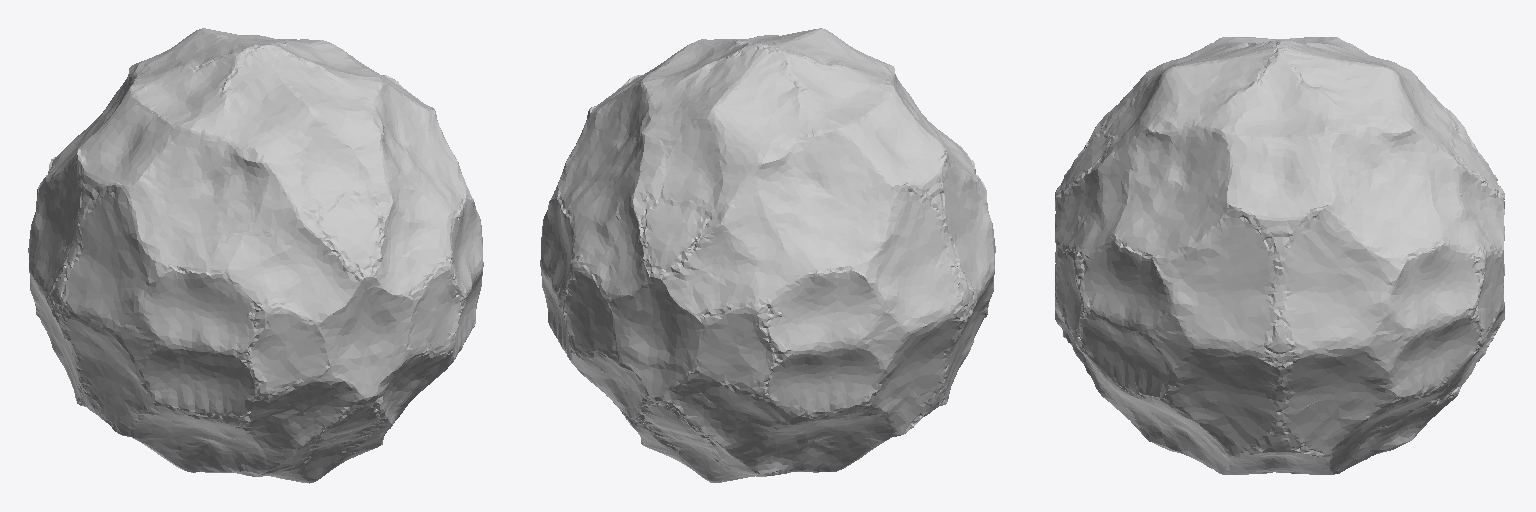
File: bossModelParticle.obj
The picture shows the model from 3 angles: view 1: azimuth 30°, elevation 25°; view 2: azimuth 150°, elevation 25°; view 3: azimuth 270°, elevation 25°; orthographic projection.
Parts seen in each view (by area): view 1: Meshy_AI_遺跡を守るボス_[number redacted]_texture; view 2: Meshy_AI_遺跡を守るボス_[number redacted]_texture; view 3: Meshy_AI_遺跡を守るボス_[number redacted]_texture.
Boxes of the visible parts, box(x1,y1,x2,y2) form: Meshy_AI_遺跡を守るボス_[number redacted]_texture: box(28, 28, 483, 483); Meshy_AI_遺跡を守るボス_[number redacted]_texture: box(540, 28, 995, 482); Meshy_AI_遺跡を守るボス_[number redacted]_texture: box(1055, 37, 1504, 474).
Size of the model in its own units: 2 by 2 by 1.95.